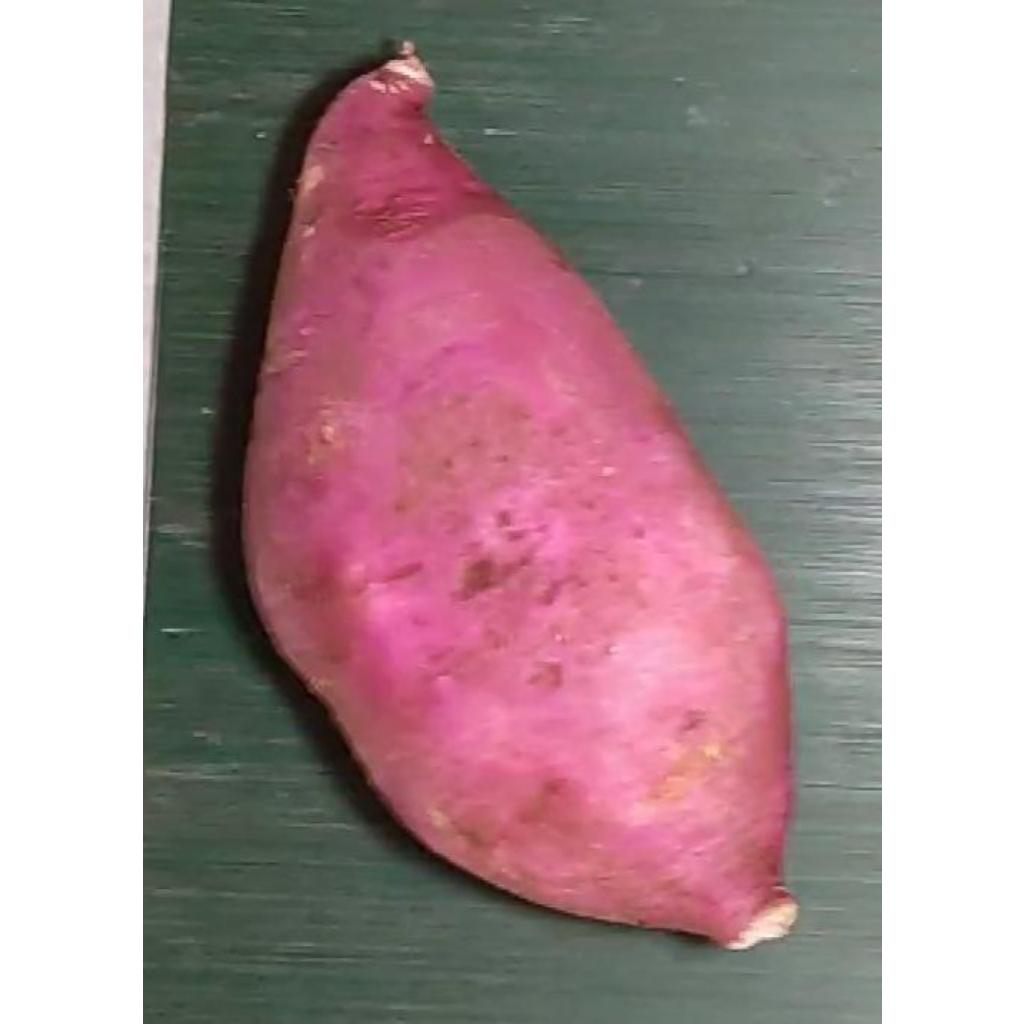Sweet Potato: (241, 39, 800, 954)
